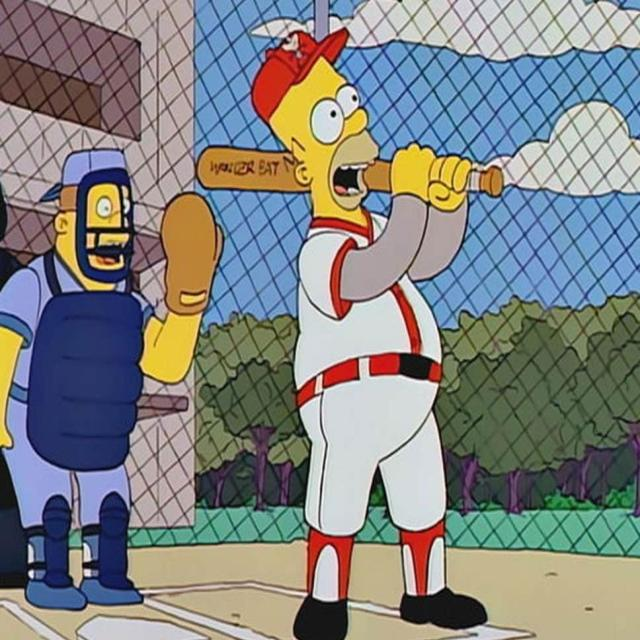Homer Simpson: (266, 42, 385, 232)
